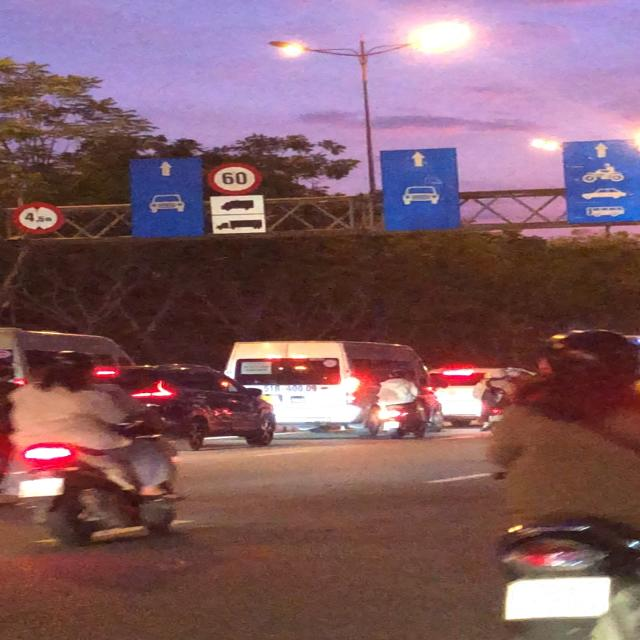Bien bao han che chieu cao: (8, 200, 68, 241)
Bien bao toc do toi da cho phep: (209, 160, 263, 195)
